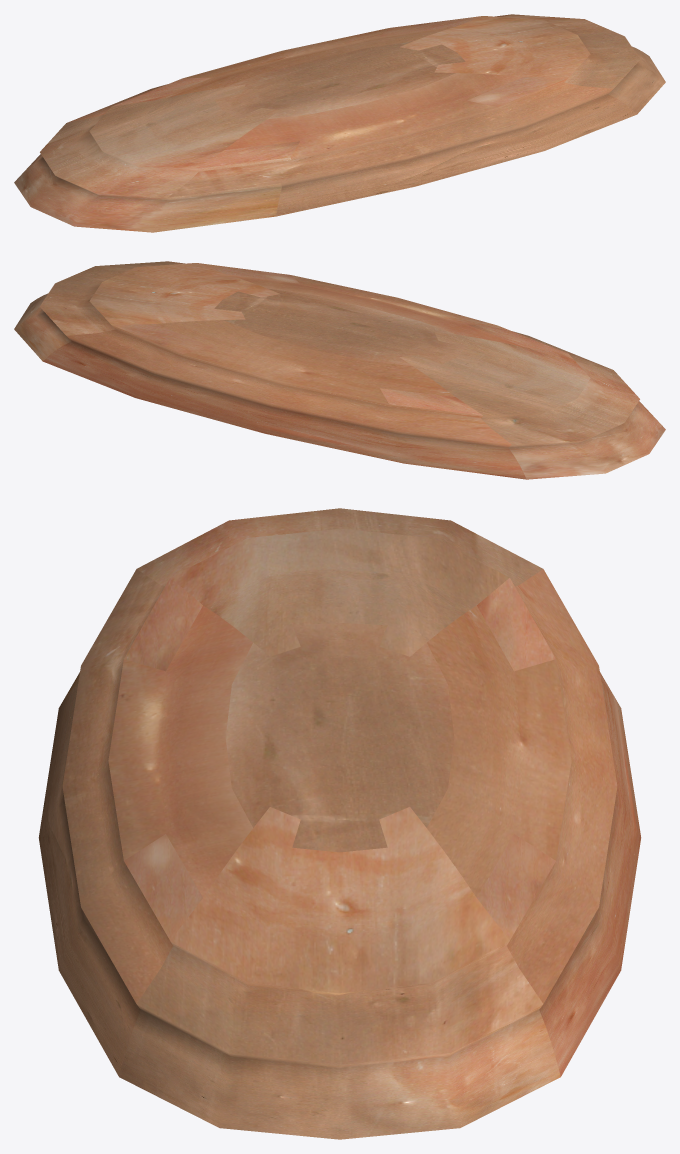
File: roof.obj
3 renders of one model, top to bottom at view 1: azimuth 30°, elevation 25°; view 2: azimuth 150°, elevation 25°; view 3: azimuth 270°, elevation 25°, orthographic. The views are drawn at different scales.
Visible parts, largest first — view 1: pSphere2; view 2: pSphere2; view 3: pSphere2.
Boxes of the visible parts, x1=… form: pSphere2: x1=14, y1=14, x2=665, y2=232; pSphere2: x1=14, y1=261, x2=665, y2=479; pSphere2: x1=38, y1=508, x2=641, y2=1139.
Size of the model in its own units: 11.97 by 1.02 by 5.05.
1 material, 1 textured.
